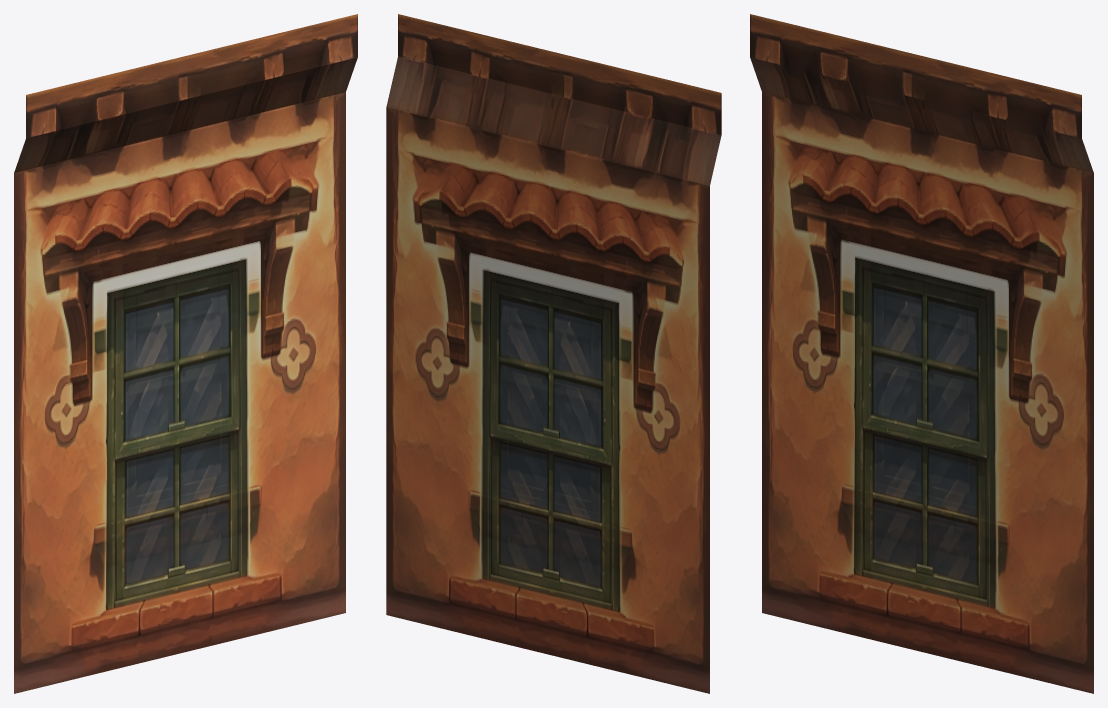
Rendered from MSN_U_Bay2A.fbx.
The picture shows the model from 3 angles, left to right: view 1: azimuth 30°, elevation 25°; view 2: azimuth 150°, elevation 25°; view 3: azimuth 330°, elevation 25°; orthographic projection. The views are drawn at different scales.
Parts seen in each view (by area): view 1: MSN_U_Bay2A; view 2: MSN_U_Bay2A; view 3: MSN_U_Bay2A.
Boxes of the visible parts, x1,y1,x2,y2 form: MSN_U_Bay2A: (14,14,357,693); MSN_U_Bay2A: (386,14,721,693); MSN_U_Bay2A: (750,14,1093,693).
Bounding box in the file's own units: 2 × 0.125 × 3.5.
1 material, 1 textured.
